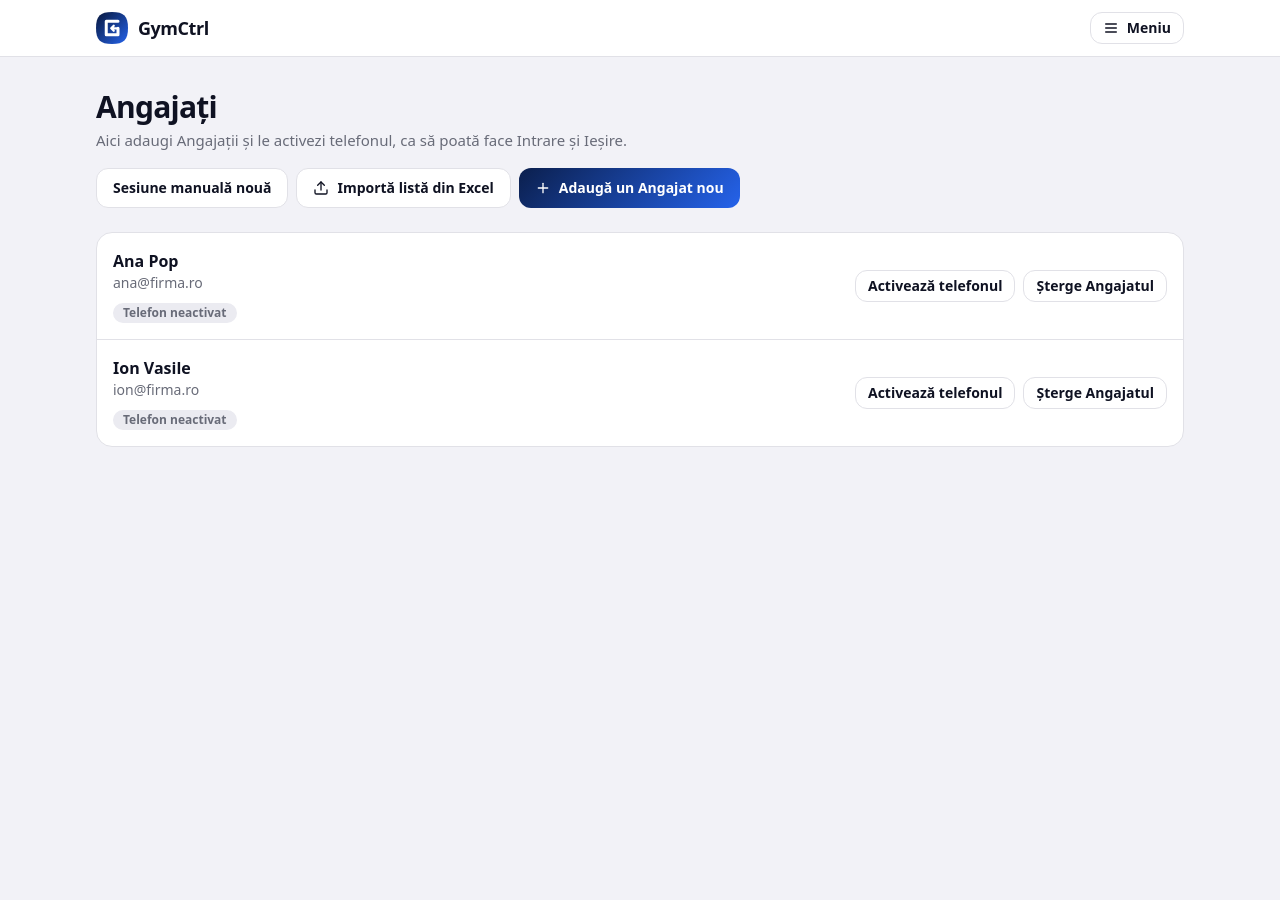
Test: ecranul Angajați › șterge un Angajat doar după confirmare; anularea nu face nimic
Click the button "Șterge Angajatul" in the row of "ana@firma.ro".
click(1095, 286)  # box [1024,270,1167,302]
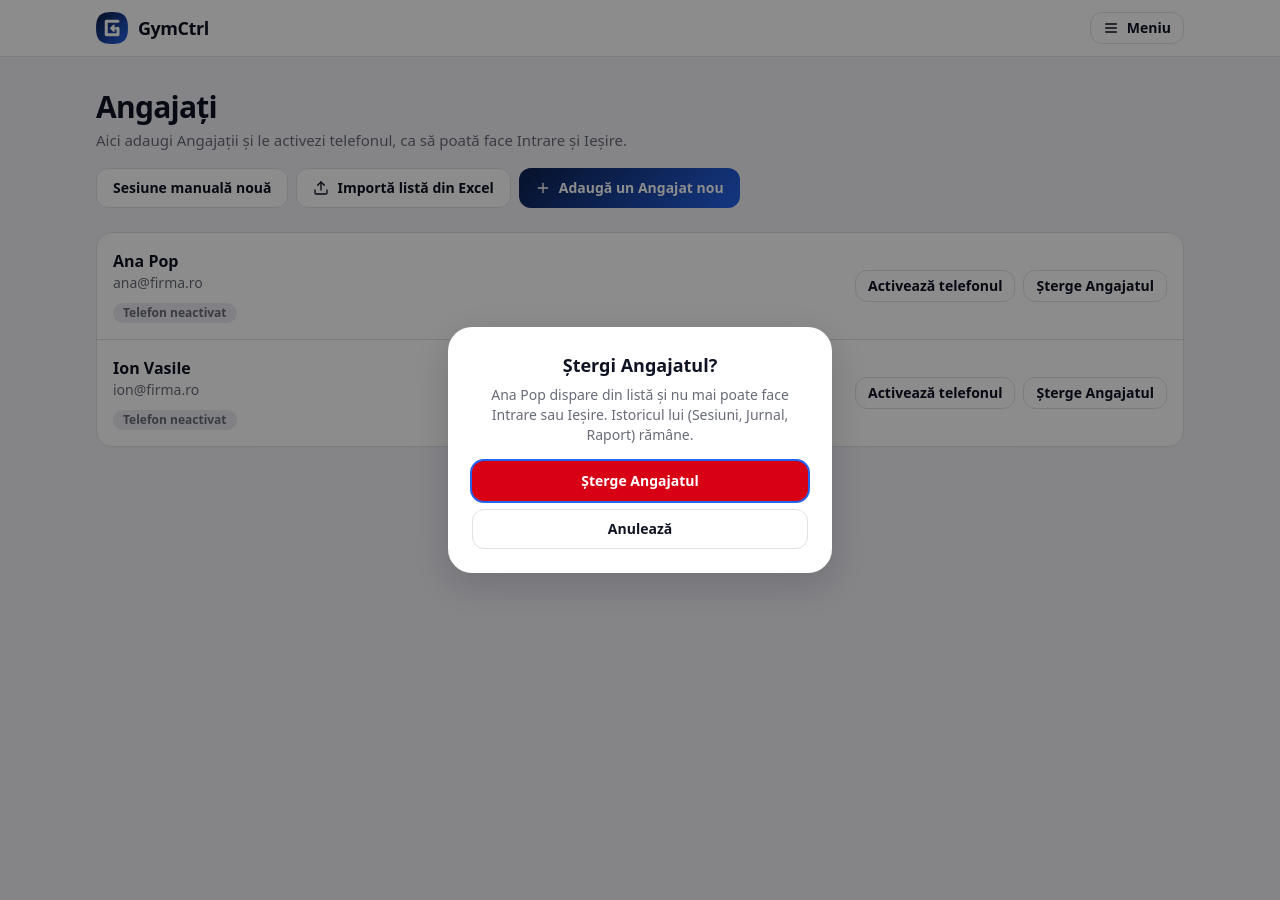
Result: the dialog shows "Ana Pop" at [491,385,789,444]
Result: the dialog shows "istoricul" at [491,385,789,444]
Click the button "Anulează".
click(640, 529)  # box [472,509,808,549]
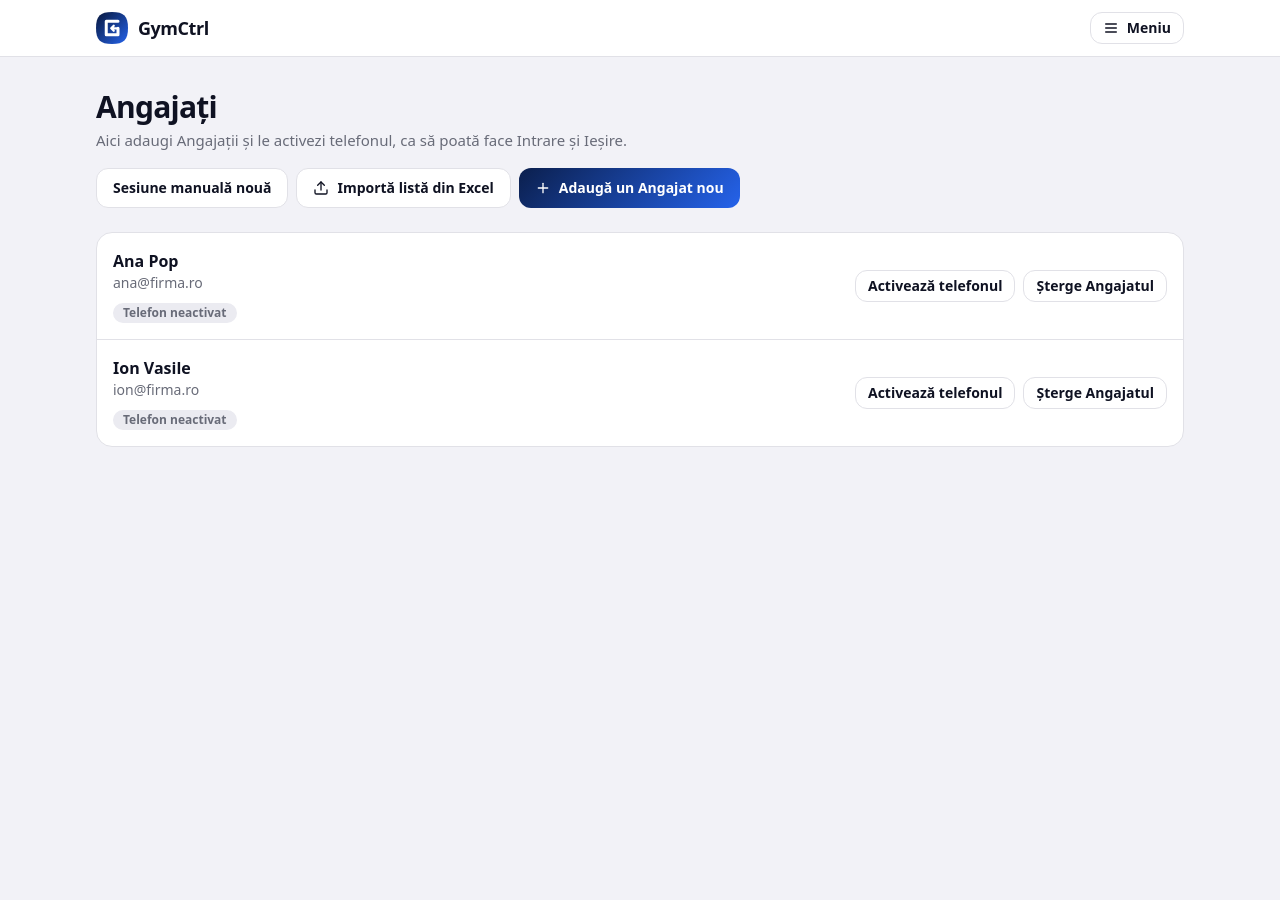
Click the button "Șterge Angajatul" in the row of "ana@firma.ro".
click(1095, 286)  # box [1024,270,1167,302]
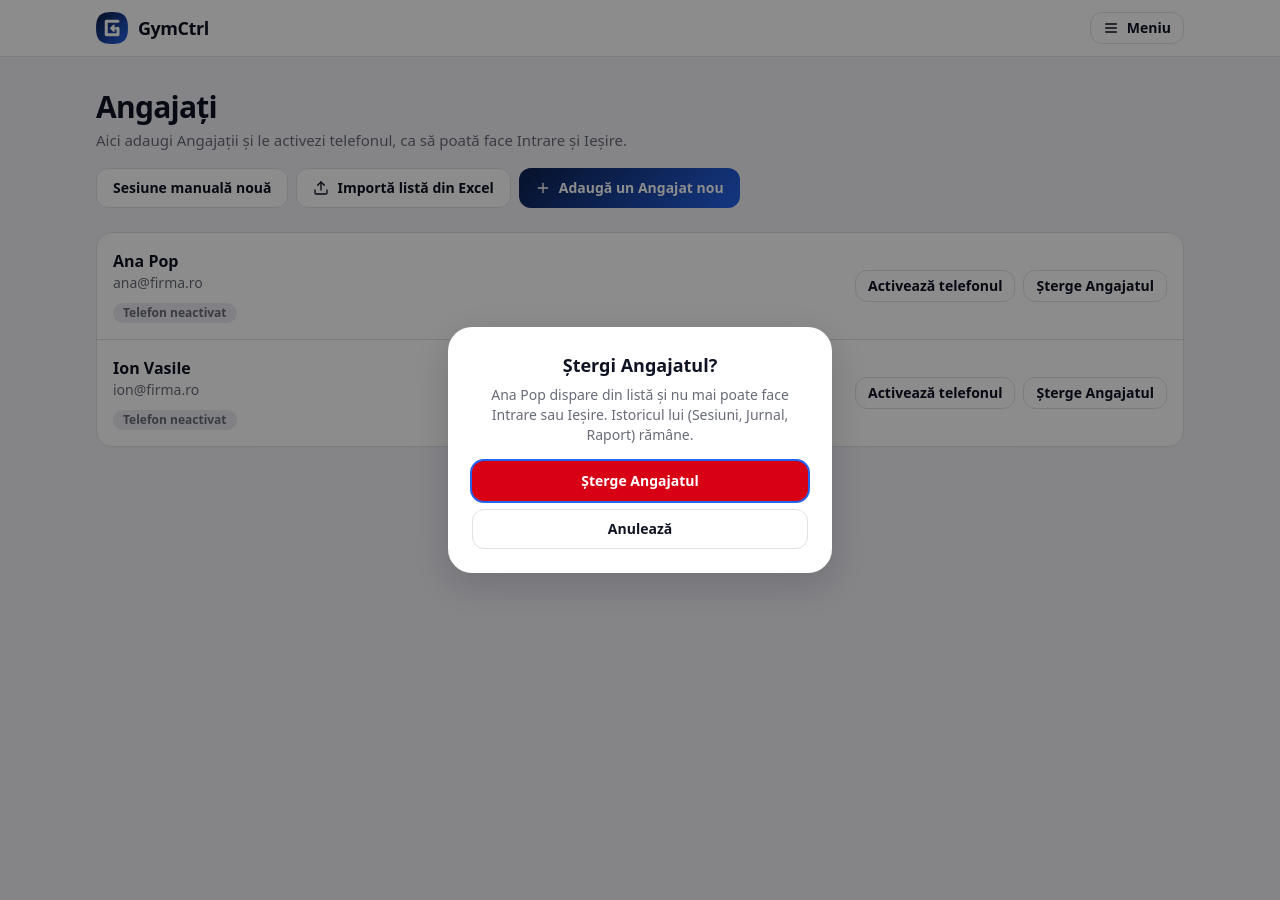
Click the button "Șterge Angajatul".
click(640, 481)  # box [472,461,808,501]
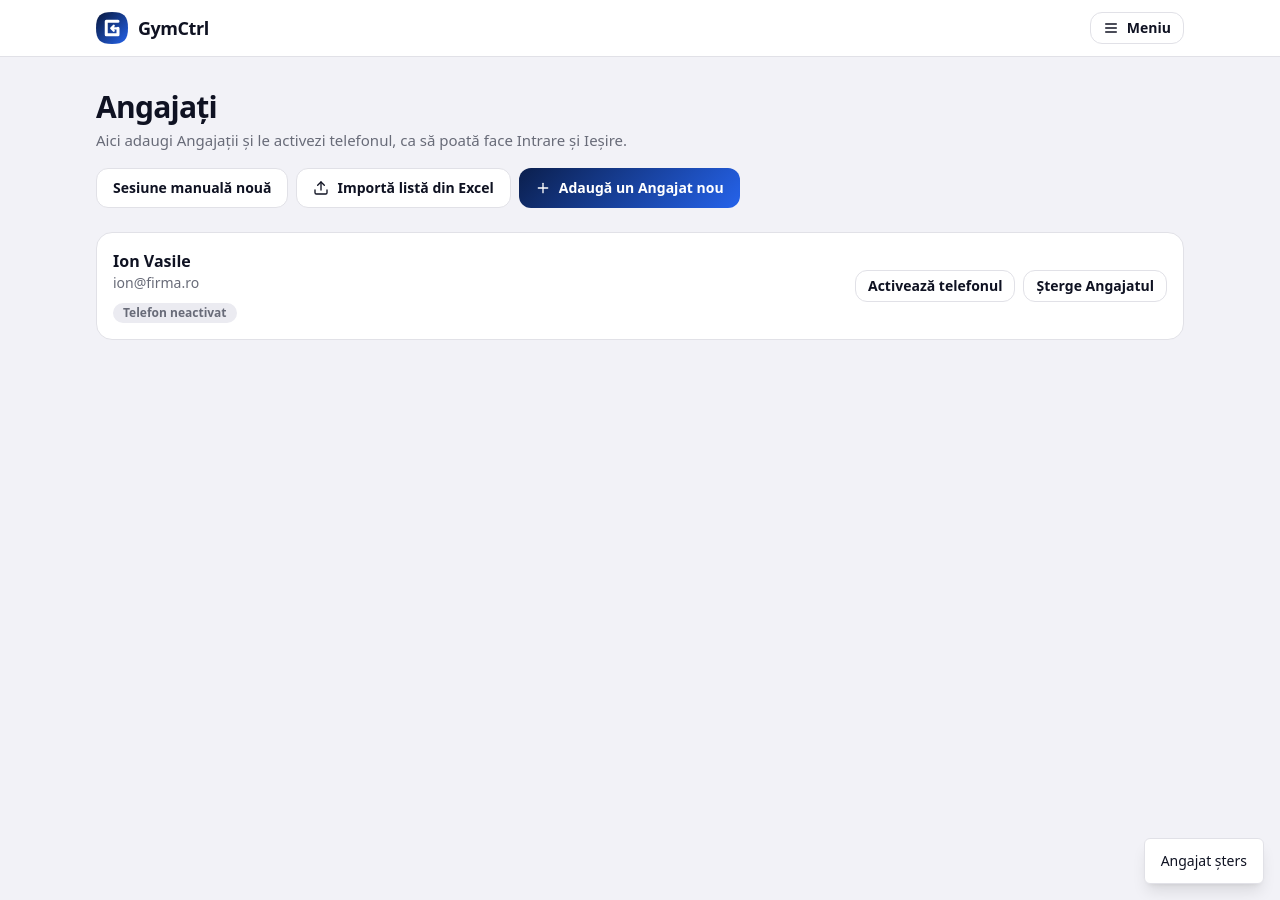
Expected: the text "Ion Vasile" is shown, [113,250,191,272]
Result: the text "Ana Pop" is gone
Result: the message reads "Angajat șters" at [1161,851,1247,870]
